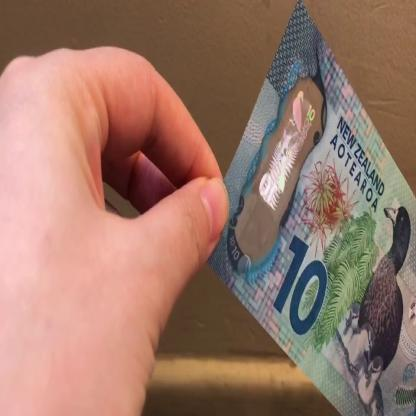10F: (251, 80, 318, 214)
